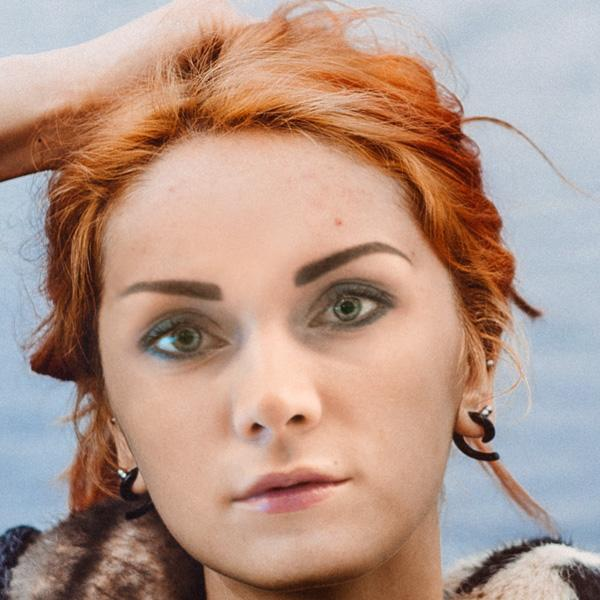Eyes: (298, 276, 399, 347), (129, 305, 239, 369)
